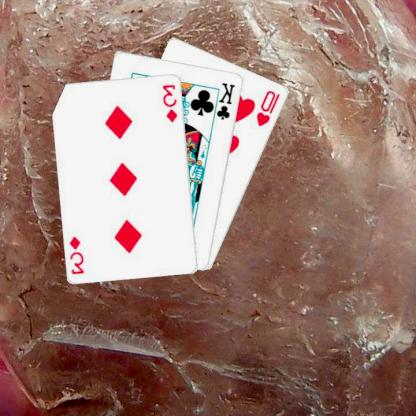10H: (256, 88, 283, 128)
3D: (161, 82, 180, 124), (69, 233, 87, 275)
KC: (212, 80, 238, 123)
